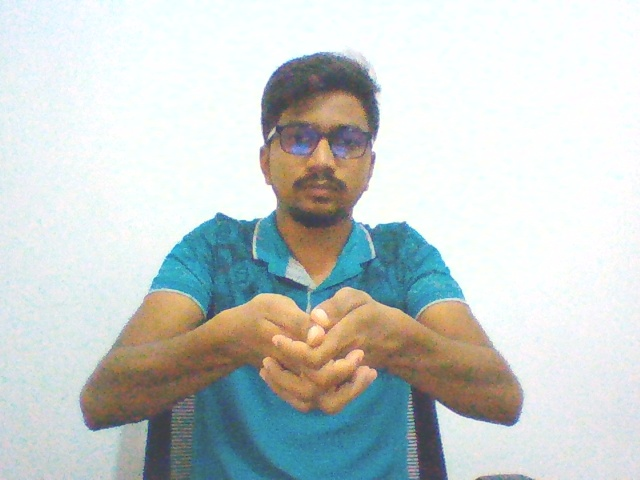mangosteen: (213, 281, 403, 425)
